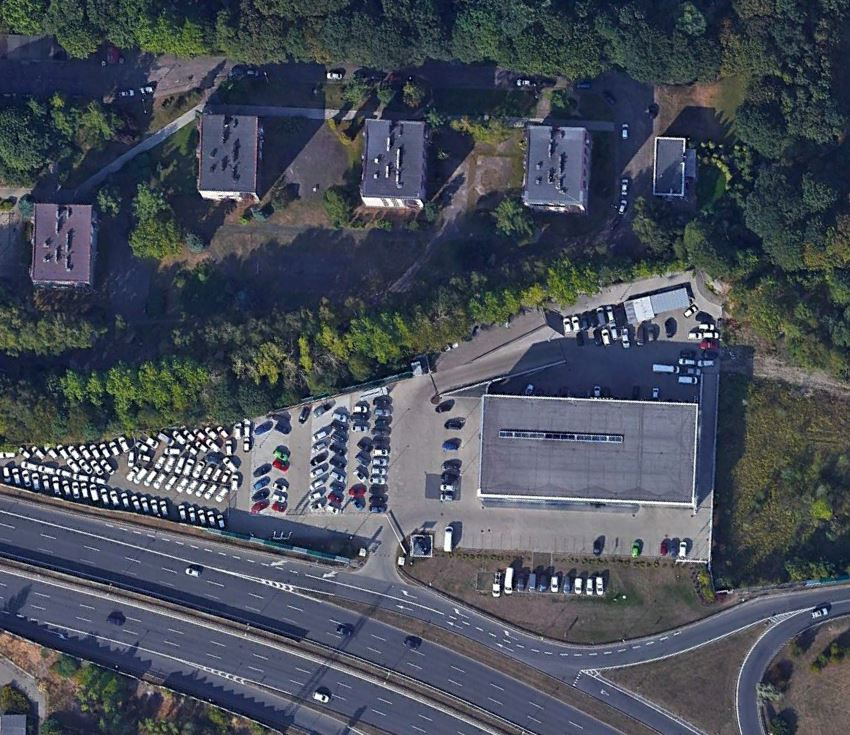block of flats: (358, 114, 433, 215), (25, 195, 101, 294), (523, 120, 594, 223), (193, 108, 269, 204), (644, 129, 701, 201)
shopping_center: (474, 388, 708, 512)
